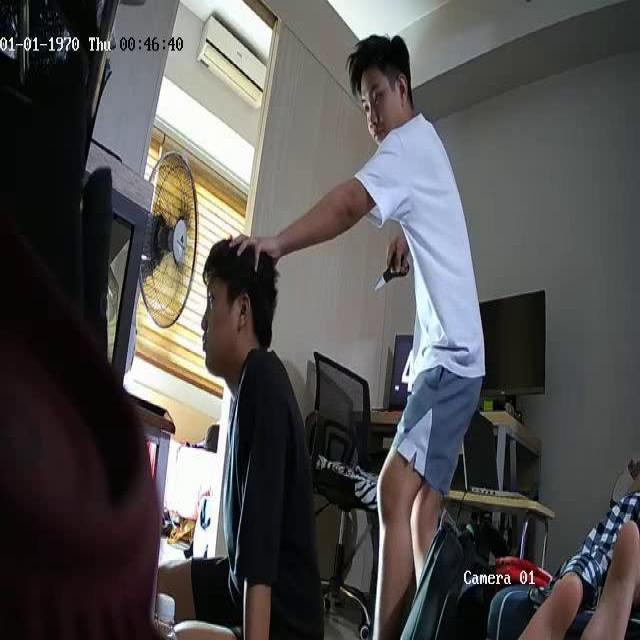scissor: (376, 253, 409, 290)
